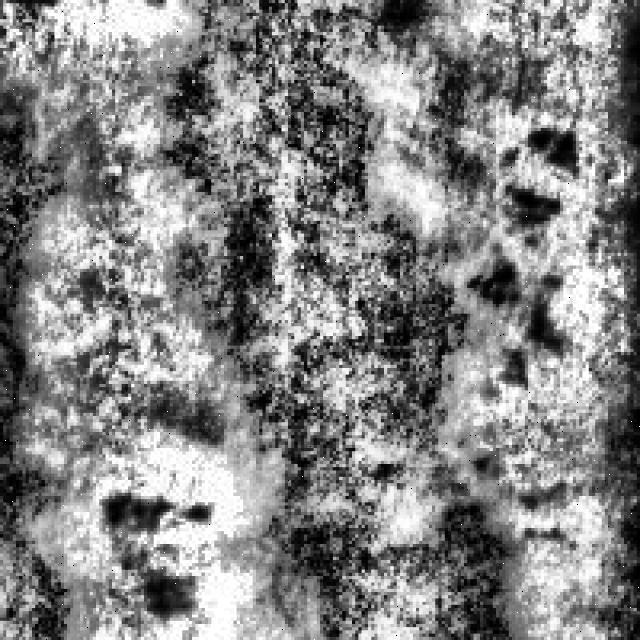Patches: (464, 167, 563, 346)
Scratches: (176, 0, 480, 630), (390, 470, 506, 636), (0, 74, 77, 308), (0, 442, 77, 636)
